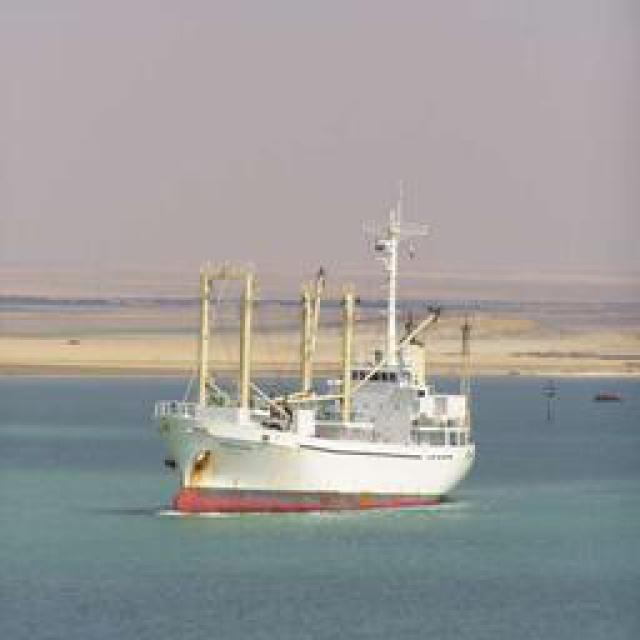Ship: (160, 245, 478, 515)
